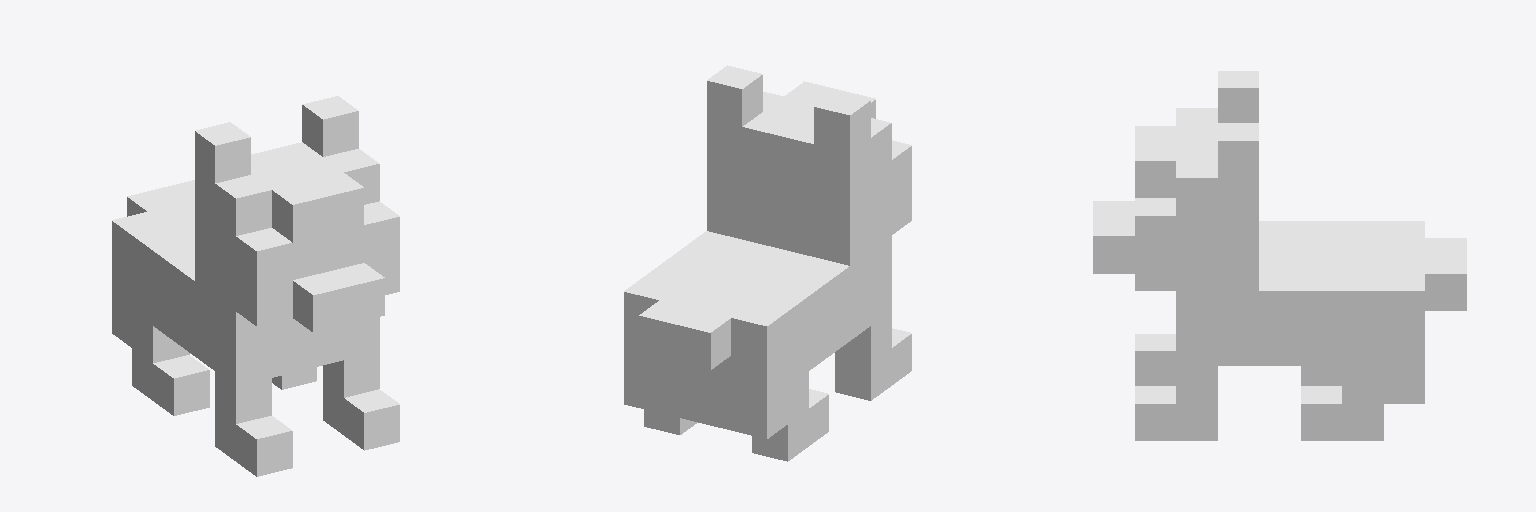
Rendered from minidog.obj.
3 views of the same model, side by side, from view 1: azimuth 30°, elevation 25°; view 2: azimuth 150°, elevation 25°; view 3: azimuth 270°, elevation 25° (orthographic).
Visible parts, largest first — view 1: object 1; view 2: object 1; view 3: object 1.
Part boxes in pixels (bbox=[...]): object 1: bbox=[112, 96, 399, 476]; object 1: bbox=[624, 65, 911, 461]; object 1: bbox=[1093, 71, 1466, 440].
Size of the model in its own units: 0.4 by 0.8 by 0.9.